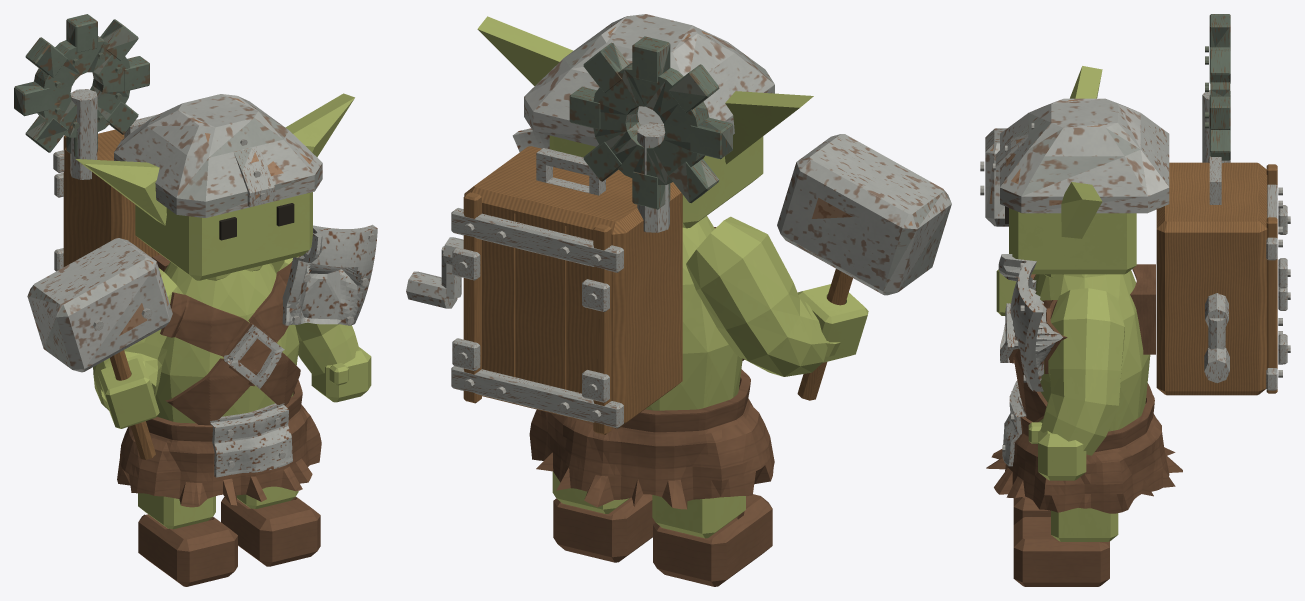
Rendered from host_04.glb.
The picture shows the model from 3 angles, left to right: view 1: azimuth 30°, elevation 25°; view 2: azimuth 150°, elevation 25°; view 3: azimuth 270°, elevation 25°; orthographic projection. The views are drawn at different scales.
Parts seen in each view (by area): view 1: Body — one connected narrow green chest neck and short sourc, Helmet — shallow broad rusty steel crown, Weapon — RIGHT compact rectangular scrap steel hammer head, Equipment — one connected RIGHT square-tooth cog and true ce, Clothing — source torn brown skirt, Head — continuous source square skull under helmet, Armor — only LEFT fitted thick square shoulder scrap plate, Equipment — large attached rear rectangular wooden cabinet, Clothing — RIGHT short brown planted boot, Clothing — fitted LEFT-to-RIGHT brown harness, Clothing — LEFT short brown planted boot, Armor — broad outer belt front scrap plate (+8 smaller); view 2: Equipment — large attached rear rectangular wooden cabinet, Body — one connected narrow green chest neck and short sourc, Clothing — source torn brown skirt, Weapon — RIGHT compact rectangular scrap steel hammer head, Equipment — one connected RIGHT square-tooth cog and true ce, Helmet — shallow broad rusty steel crown, Clothing — RIGHT short brown planted boot, Clothing — LEFT short brown planted boot, Equipment — major outer rear metal cabinet band at 0.814, Equipment — major outer rear metal cabinet band at 0.5, Head — continuous source square skull under helmet, Head — RIGHT real angular pointed green ear (+12 smaller); view 3: Equipment — large attached rear rectangular wooden cabinet, Body — one connected narrow green chest neck and short sourc, Helmet — shallow broad rusty steel crown, Clothing — source torn brown skirt, Head — continuous source square skull under helmet, Clothing — LEFT short brown planted boot, Armor — only LEFT fitted thick square shoulder scrap plate, Equipment — one connected RIGHT square-tooth cog and true ce, Equipment — LEFT cabinet crank axle, Head — LEFT real angular pointed green ear, Equipment — actual complete source cabinet back carrying lea, Equipment — major cabinet wooden edge support at -0.137 (+11 smaller).
Part boxes in pixels (left/top/right/bottom): Body — one connected narrow green chest neck and short sourc: left=93, top=256, right=371, bottom=529; Helmet — shallow broad rusty steel crown: left=114, top=94, right=322, bottom=217; Weapon — RIGHT compact rectangular scrap steel hammer head: left=27, top=238, right=172, bottom=372; Equipment — one connected RIGHT square-tooth cog and true ce: left=14, top=14, right=149, bottom=157; Clothing — source torn brown skirt: left=117, top=380, right=321, bottom=507; Head — continuous source square skull under helmet: left=135, top=192, right=312, bottom=280; Armor — only LEFT fitted thick square shoulder scrap plate: left=282, top=224, right=377, bottom=325; Equipment — large attached rear rectangular wooden cabinet: left=64, top=129, right=160, bottom=266; Clothing — RIGHT short brown planted boot: left=138, top=514, right=237, bottom=586; Clothing — fitted LEFT-to-RIGHT brown harness: left=165, top=261, right=292, bottom=425; Clothing — LEFT short brown planted boot: left=221, top=496, right=320, bottom=566; Armor — broad outer belt front scrap plate: left=210, top=403, right=292, bottom=477; Equipment — large attached rear rectangular wooden cabinet: left=464, top=146, right=682, bottom=428; Body — one connected narrow green chest neck and short sourc: left=552, top=216, right=828, bottom=538; Clothing — source torn brown skirt: left=529, top=369, right=774, bottom=509; Weapon — RIGHT compact rectangular scrap steel hammer head: left=777, top=134, right=951, bottom=295; Equipment — one connected RIGHT square-tooth cog and true ce: left=569, top=36, right=732, bottom=209; Helmet — shallow broad rusty steel crown: left=524, top=14, right=774, bottom=146; Clothing — RIGHT short brown planted boot: left=653, top=494, right=772, bottom=586; Clothing — LEFT short brown planted boot: left=553, top=494, right=655, bottom=562; Equipment — major outer rear metal cabinet band at 0.814: left=451, top=208, right=623, bottom=272; Equipment — major outer rear metal cabinet band at 0.5: left=451, top=366, right=623, bottom=428; Head — continuous source square skull under helmet: left=549, top=135, right=763, bottom=228; Head — RIGHT real angular pointed green ear: left=725, top=91, right=813, bottom=164; Equipment — large attached rear rectangular wooden cabinet: left=1156, top=162, right=1267, bottom=395; Body — one connected narrow green chest neck and short sourc: left=1028, top=270, right=1150, bottom=541; Helmet — shallow broad rusty steel crown: left=1000, top=98, right=1169, bottom=213; Clothing — source torn brown skirt: left=986, top=383, right=1182, bottom=513; Head — continuous source square skull under helmet: left=1009, top=208, right=1136, bottom=274; Clothing — LEFT short brown planted boot: left=1013, top=517, right=1109, bottom=586; Armor — only LEFT fitted thick square shoulder scrap plate: left=998, top=254, right=1062, bottom=391; Equipment — one connected RIGHT square-tooth cog and true ce: left=1209, top=14, right=1230, bottom=160; Equipment — LEFT cabinet crank axle: left=1204, top=293, right=1229, bottom=383; Head — LEFT real angular pointed green ear: left=1061, top=182, right=1102, bottom=238; Equipment — actual complete source cabinet back carrying lea: left=1130, top=264, right=1155, bottom=354; Equipment — major cabinet wooden edge support at -0.137: left=1266, top=217, right=1277, bottom=393.
Size of the model in its own units: 1.32 by 1.84 by 1.03.
Materials: 14 (13 with a texture image).
